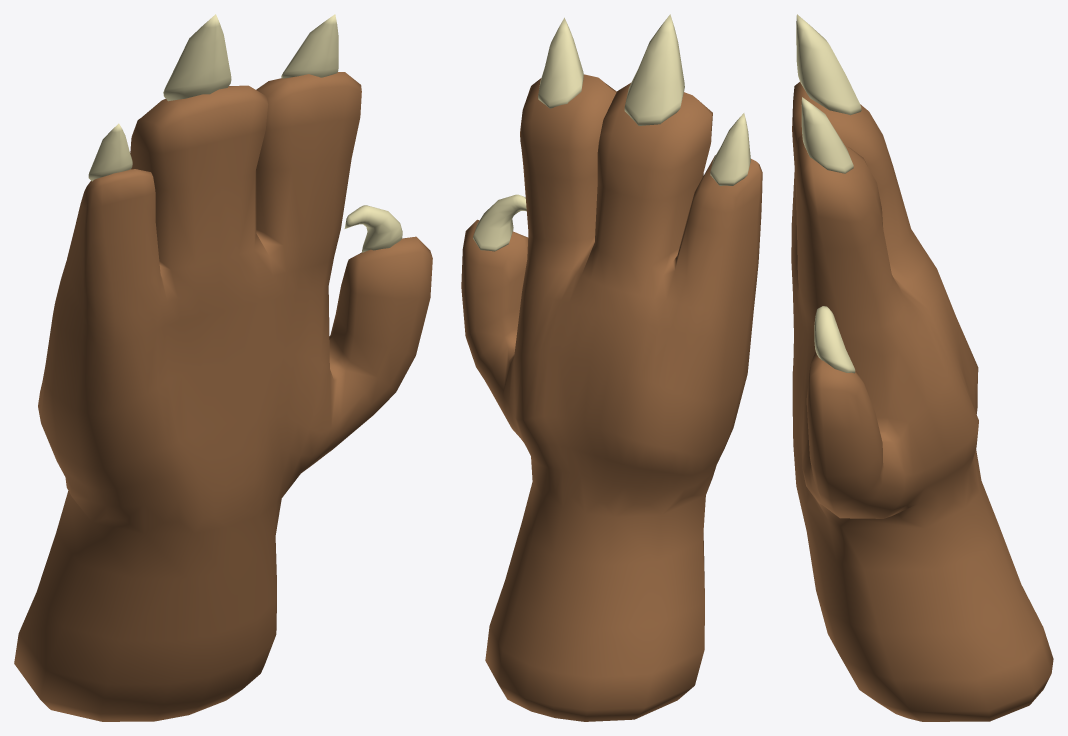
Rendered from Primal Paw.fbx.
3 renders of one model, left to right at view 1: azimuth 30°, elevation 25°; view 2: azimuth 150°, elevation 25°; view 3: azimuth 270°, elevation 25°, orthographic. The views are drawn at different scales.
Visible parts, largest first — view 1: Primal Paw - juantmessina (Skorados); view 2: Primal Paw - juantmessina (Skorados); view 3: Primal Paw - juantmessina (Skorados).
Part boxes in pixels (x1,y1,x2,y2): Primal Paw - juantmessina (Skorados): (14,14,432,721); Primal Paw - juantmessina (Skorados): (461,14,762,721); Primal Paw - juantmessina (Skorados): (791,14,1053,721).
Size of the model in its own units: 46.56 by 96.51 by 33.72.
